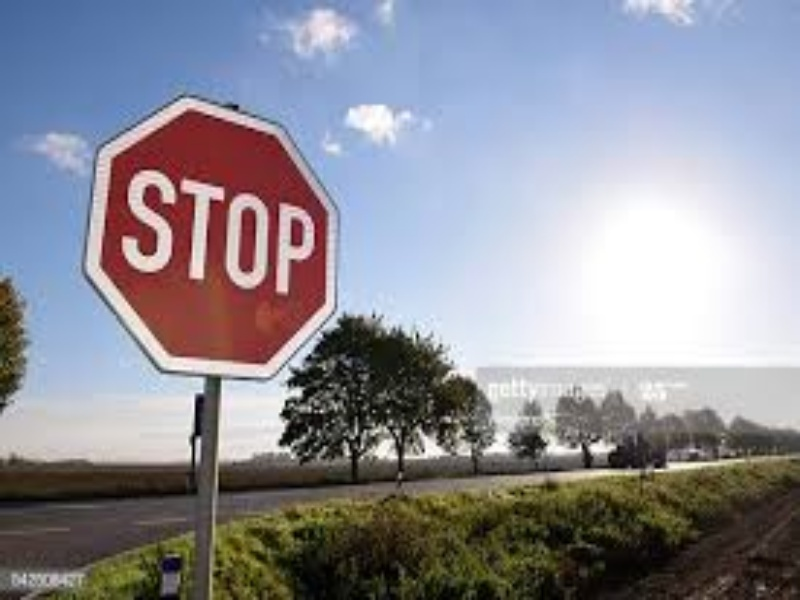Stop_Sign: (85, 101, 340, 382)
